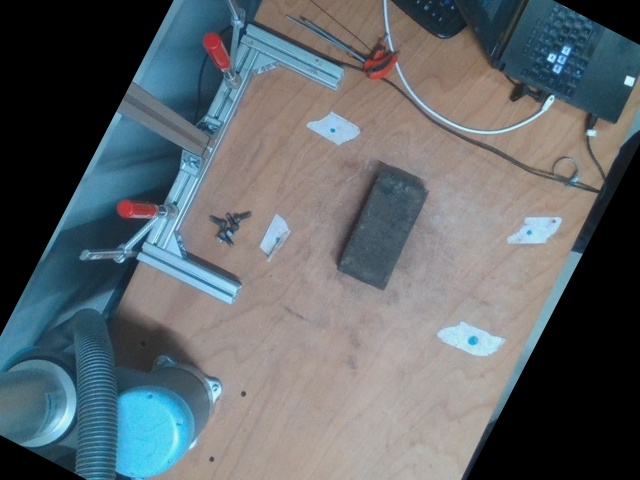brick: (337, 168, 428, 289)
